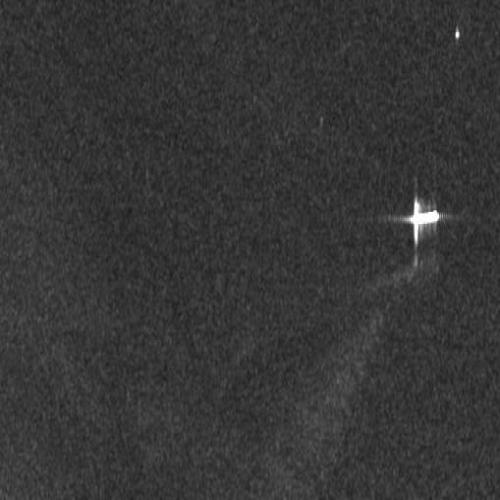ship: (411, 210, 441, 226)
